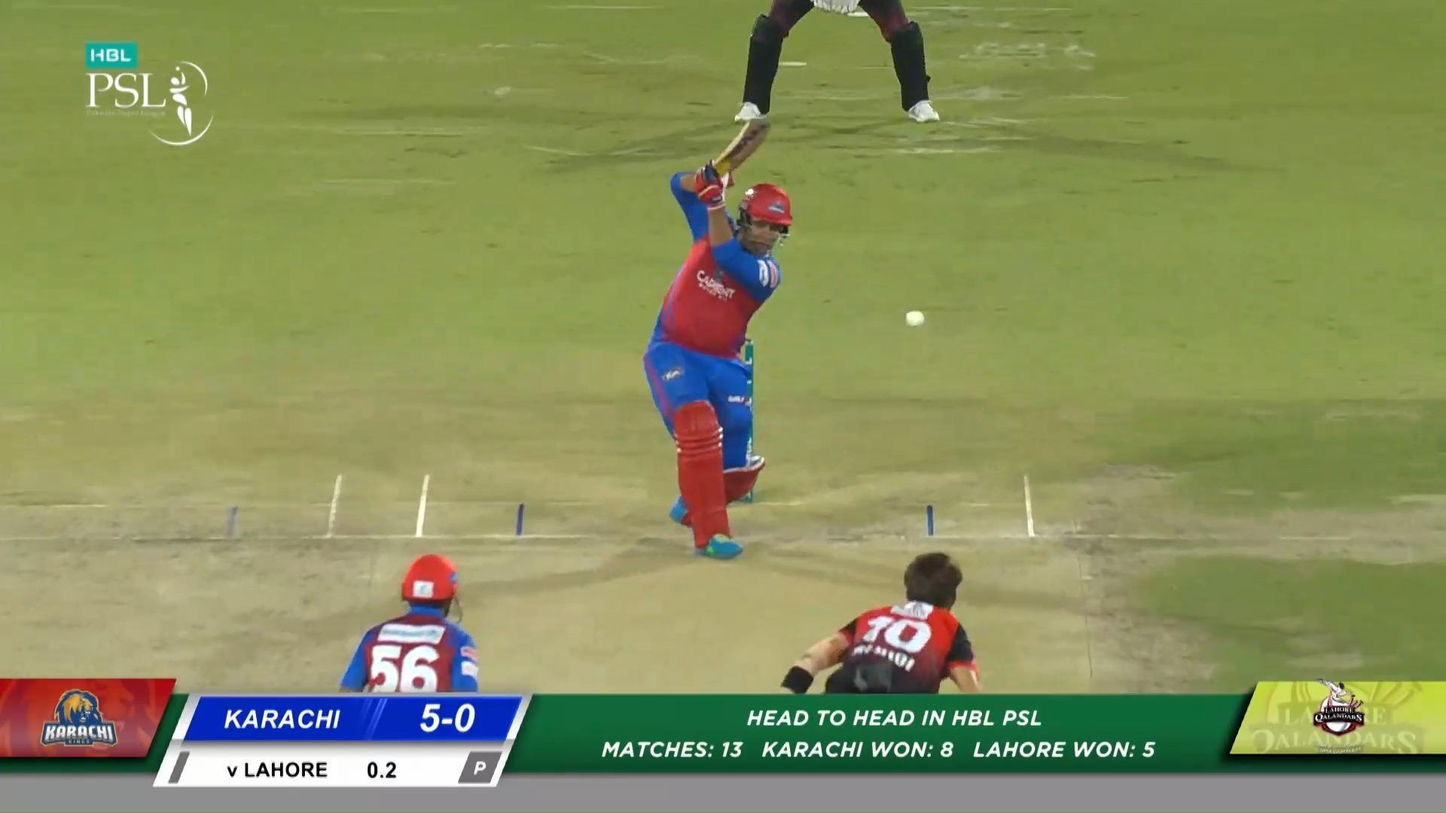BM 1: (642, 120, 795, 561)
BO: (776, 549, 988, 694)
